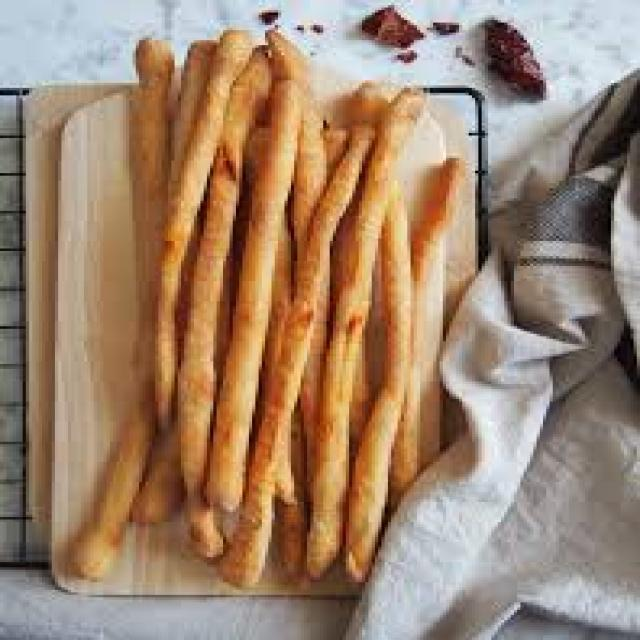Grissini: (100, 30, 417, 592)
